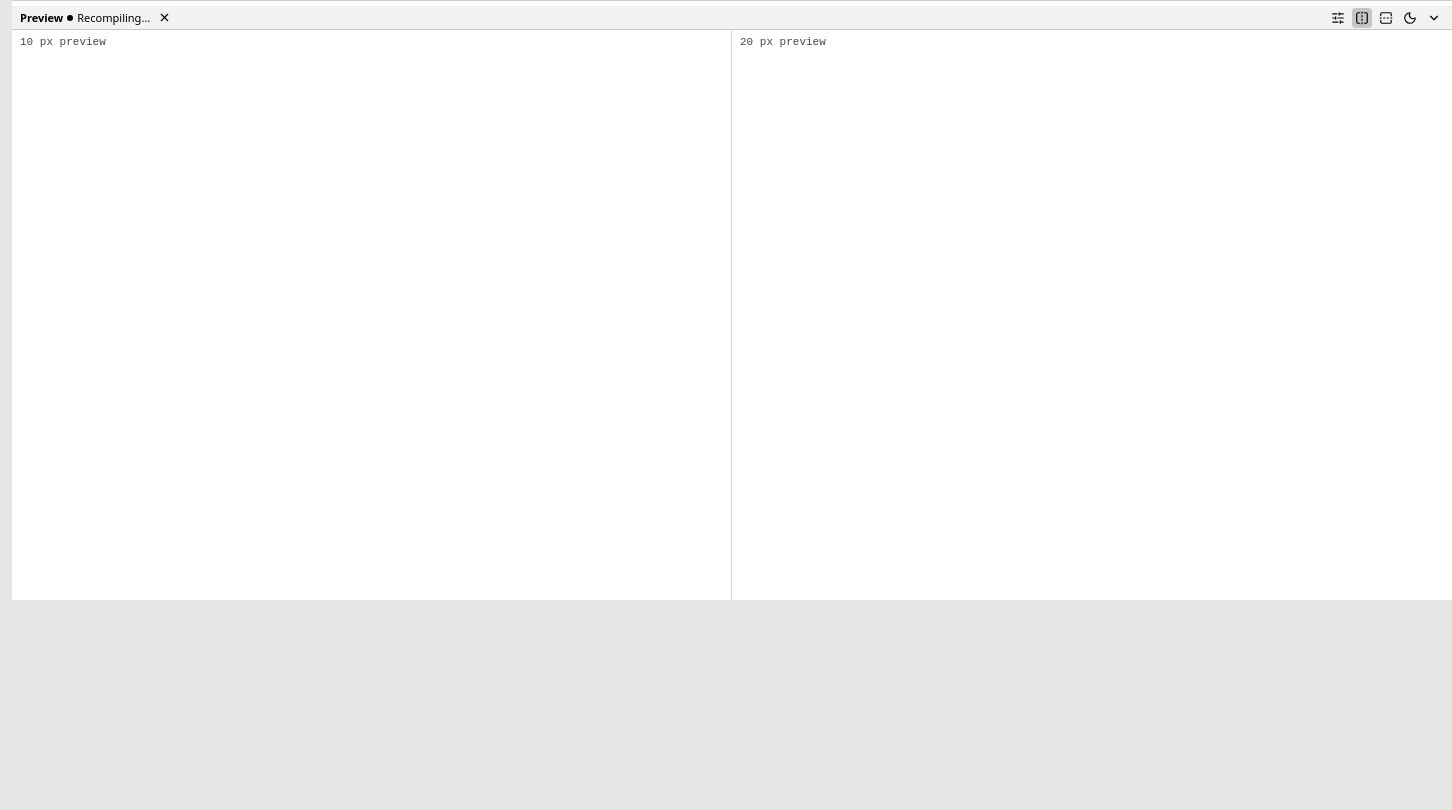
Test: shows the waterfall, flip and blur the docked strip stored on the tab
Click the button named "Preview settings" at coordinates (1338, 18), box [1328,8,1348,28]
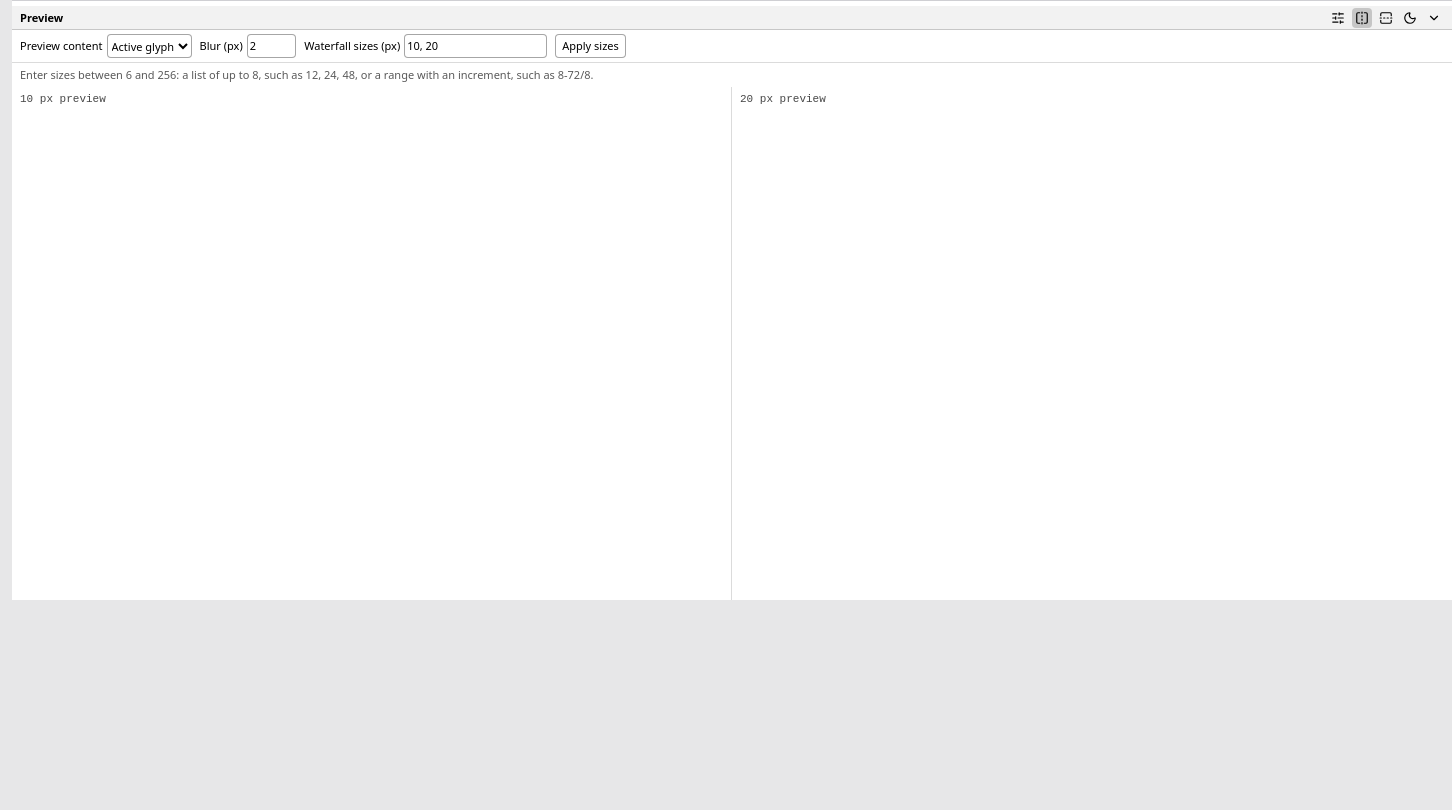
Expected: the picture "10 px preview" is shown, [12,87,732,600]
Result: the number field labelled "Blur (px)" holds "2" at [247,34,296,58]
